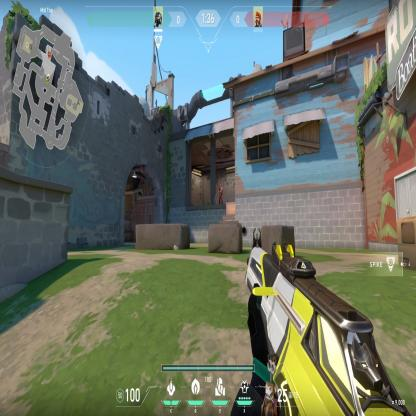enemy: (218, 181, 224, 205)
